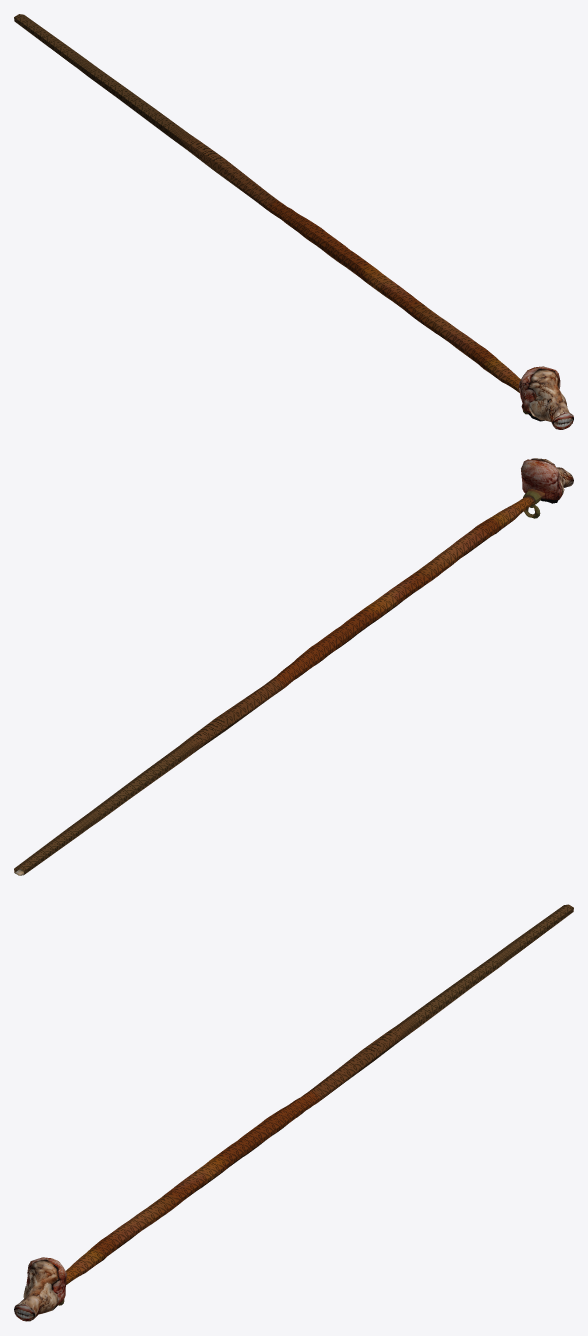
The model's file is junglesnake-lod0.glb.
3 renders of one model, top to bottom at view 1: azimuth 30°, elevation 25°; view 2: azimuth 150°, elevation 25°; view 3: azimuth 330°, elevation 25°, orthographic.
Visible parts, largest first — view 1: junglesnake-lod0, head_head.012; view 2: junglesnake-lod0, head_head.012; view 3: junglesnake-lod0, head_head.012.
Part boxes in pixels (x1,y1,x2,y2): junglesnake-lod0: (14, 14, 527, 414); head_head.012: (519, 366, 573, 429); junglesnake-lod0: (14, 489, 544, 875); head_head.012: (521, 458, 573, 503); junglesnake-lod0: (58, 904, 573, 1305); head_head.012: (14, 1257, 66, 1321).
Bounding box in the file's own units: 1.66 × 2.21 × 42.14.
6 materials, 6 textured.
